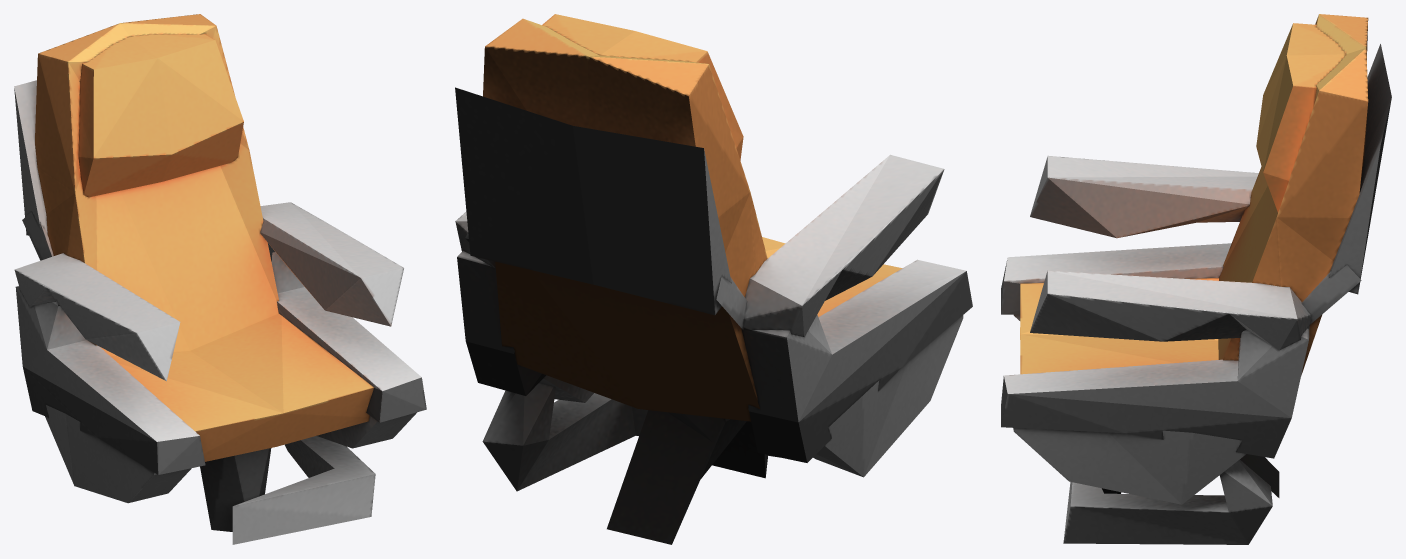
File: low-poly-orange-airplane-seat.glb
The picture shows the model from 3 angles, left to right: view 1: azimuth 30°, elevation 25°; view 2: azimuth 150°, elevation 25°; view 3: azimuth 270°, elevation 25°; orthographic projection. The views are drawn at different scales.
Parts seen in each view (by area): view 1: lowpolytexturedseat; view 2: lowpolytexturedseat; view 3: lowpolytexturedseat.
Boxes of the visible parts, bbox=[...] form: lowpolytexturedseat: bbox=[14, 14, 426, 544]; lowpolytexturedseat: bbox=[455, 14, 972, 544]; lowpolytexturedseat: bbox=[1001, 14, 1391, 544].
Bounding box in the file's own units: 0.7751 × 1.12 × 0.8969.
1 material, 1 textured.
